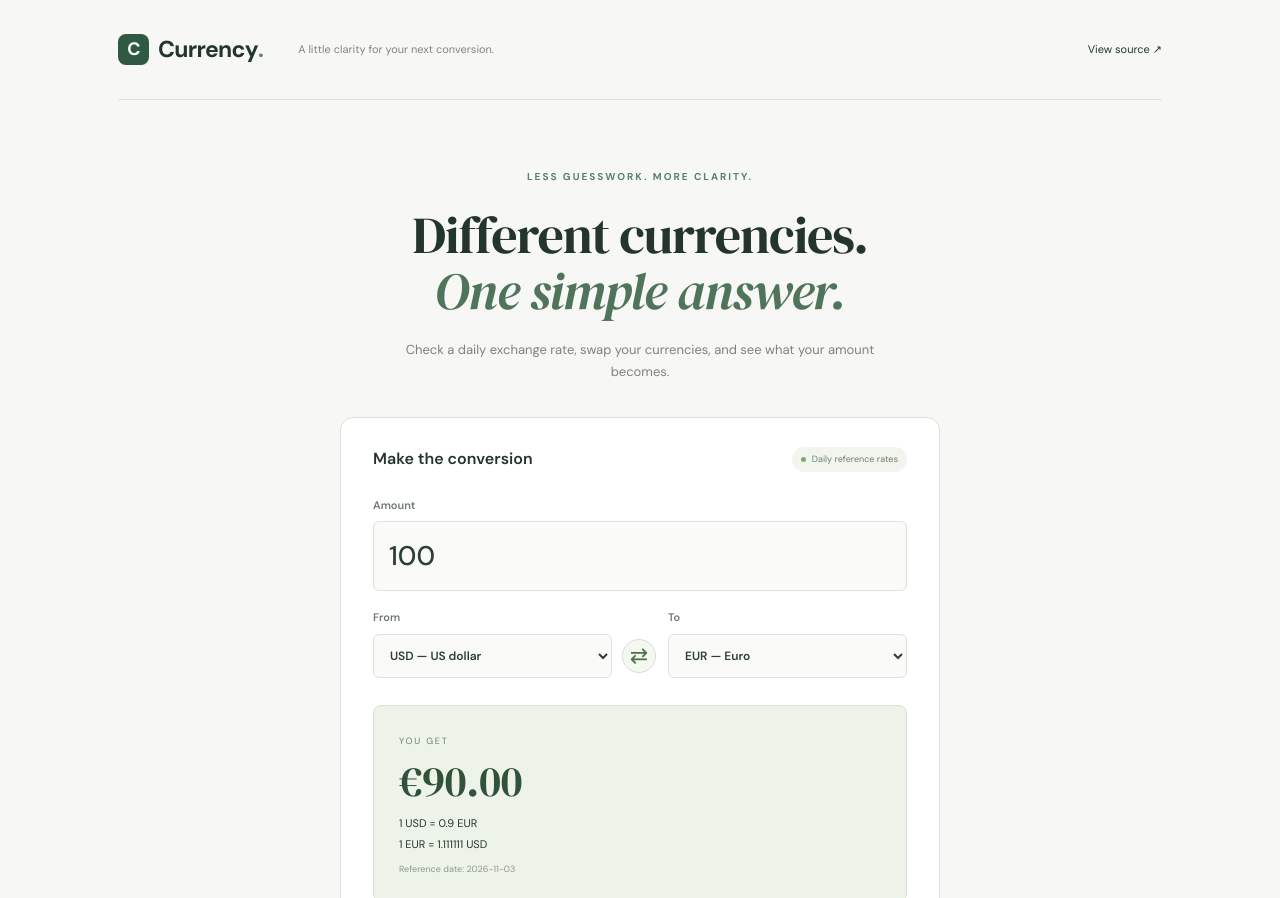
rejects negative amounts and accepts zero
Expected: the text named "Converted amount" is shown, [399,751,522,810]
Step 1. Replace the text in the number field labelled "Amount" with "-1" → (640, 556), box [373,521,907,591]
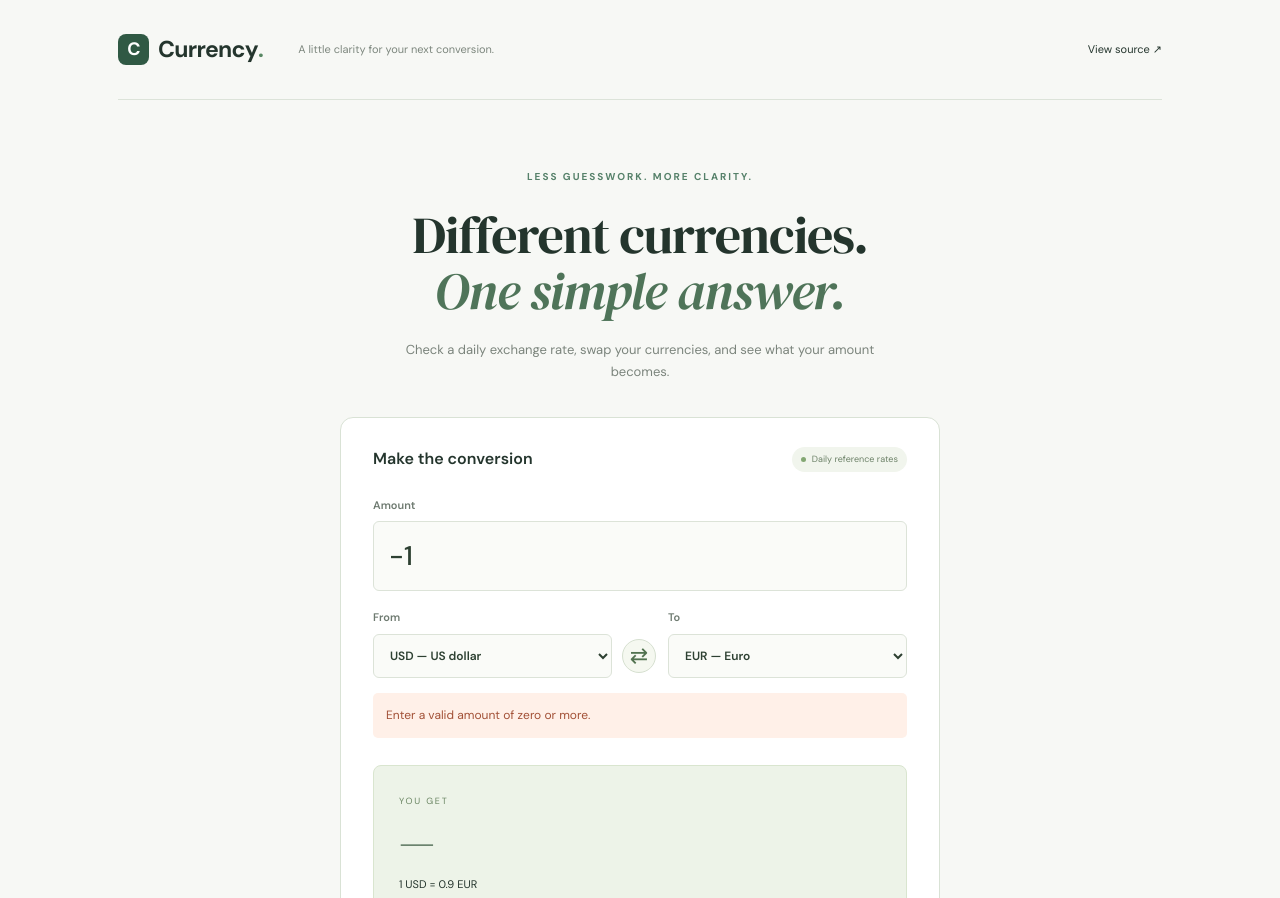
Now the message shows "valid amount", box [386,706,590,722]
Step 2. Replace the text in the number field labelled "Amount" with "0" → (640, 556), box [373,521,907,591]
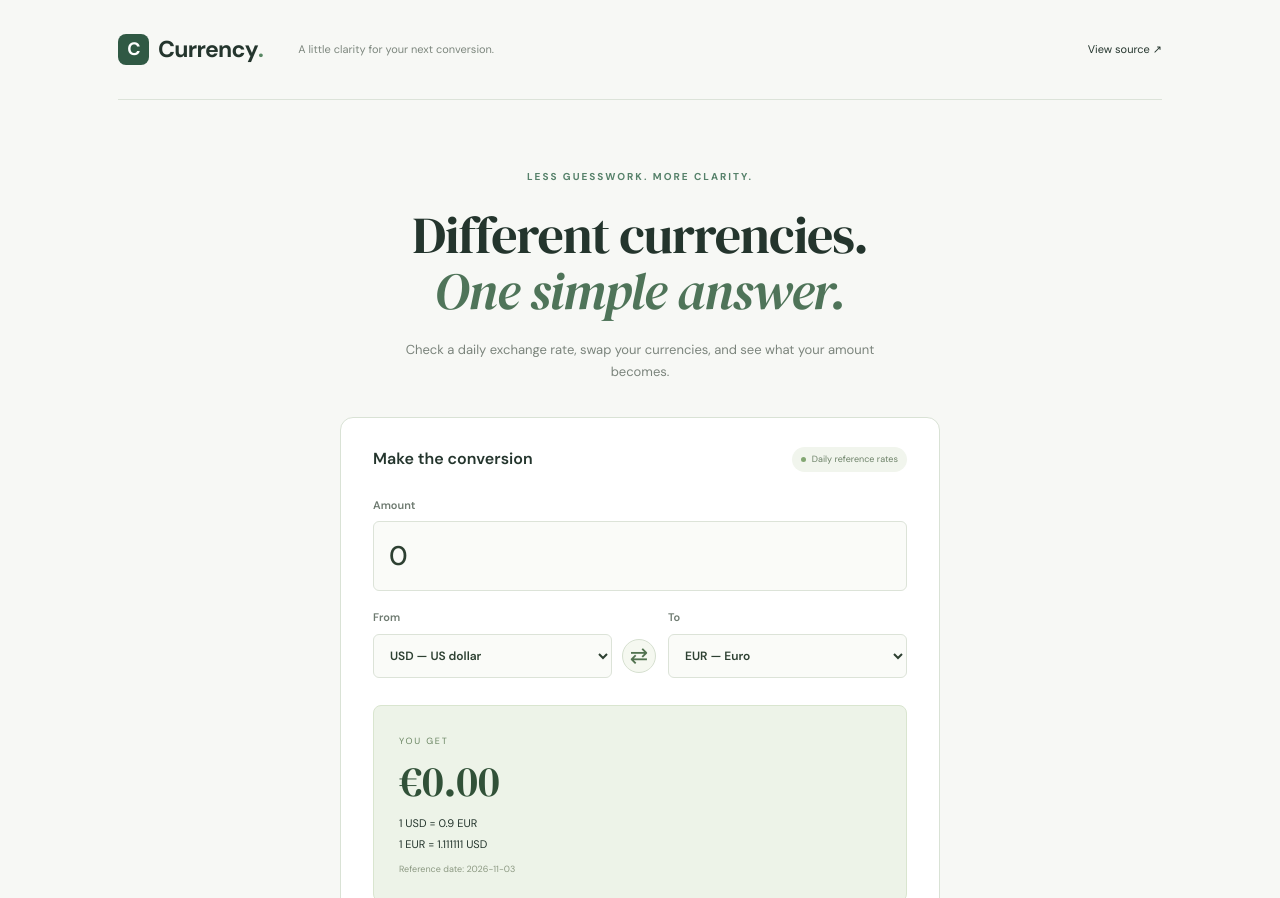
Now the text named "Converted amount" reads "€0.00", box [399,751,500,810]
